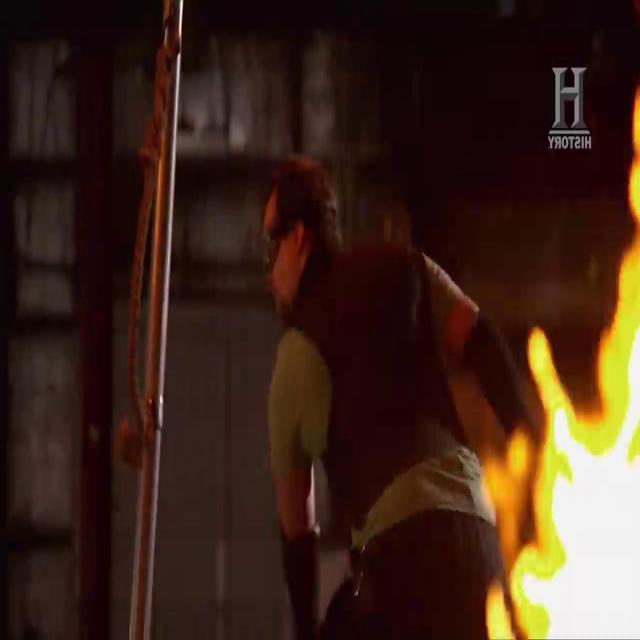Fire: (481, 90, 639, 640)
